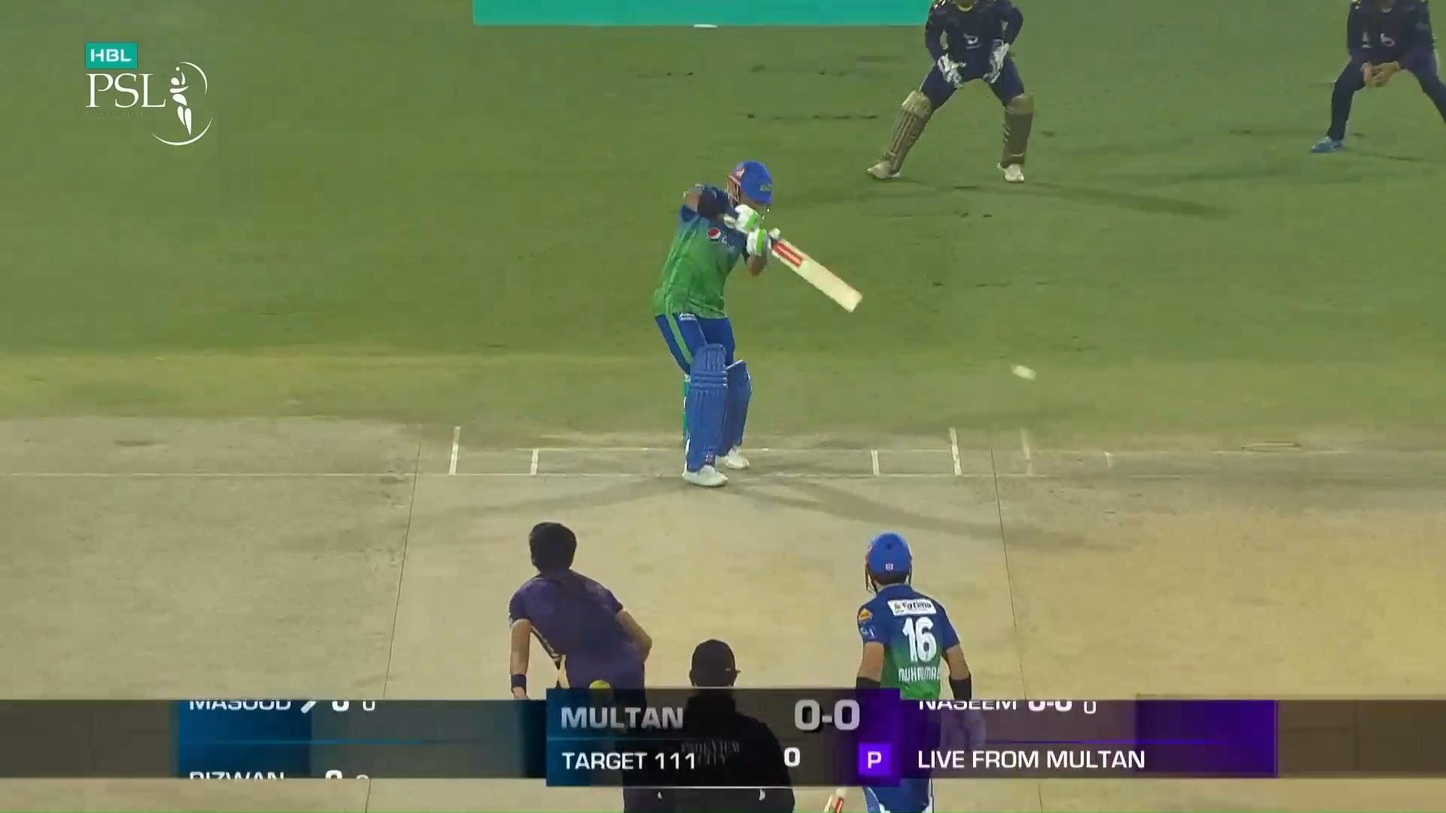batsman: (652, 160, 864, 490)
